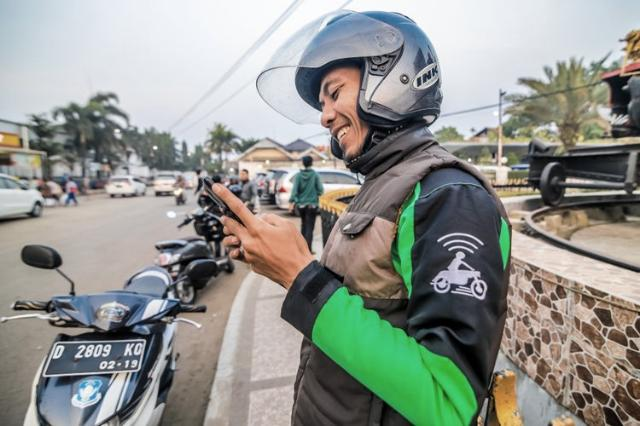helm: (258, 11, 447, 168)
motor: (9, 241, 215, 426), (155, 203, 239, 313)
